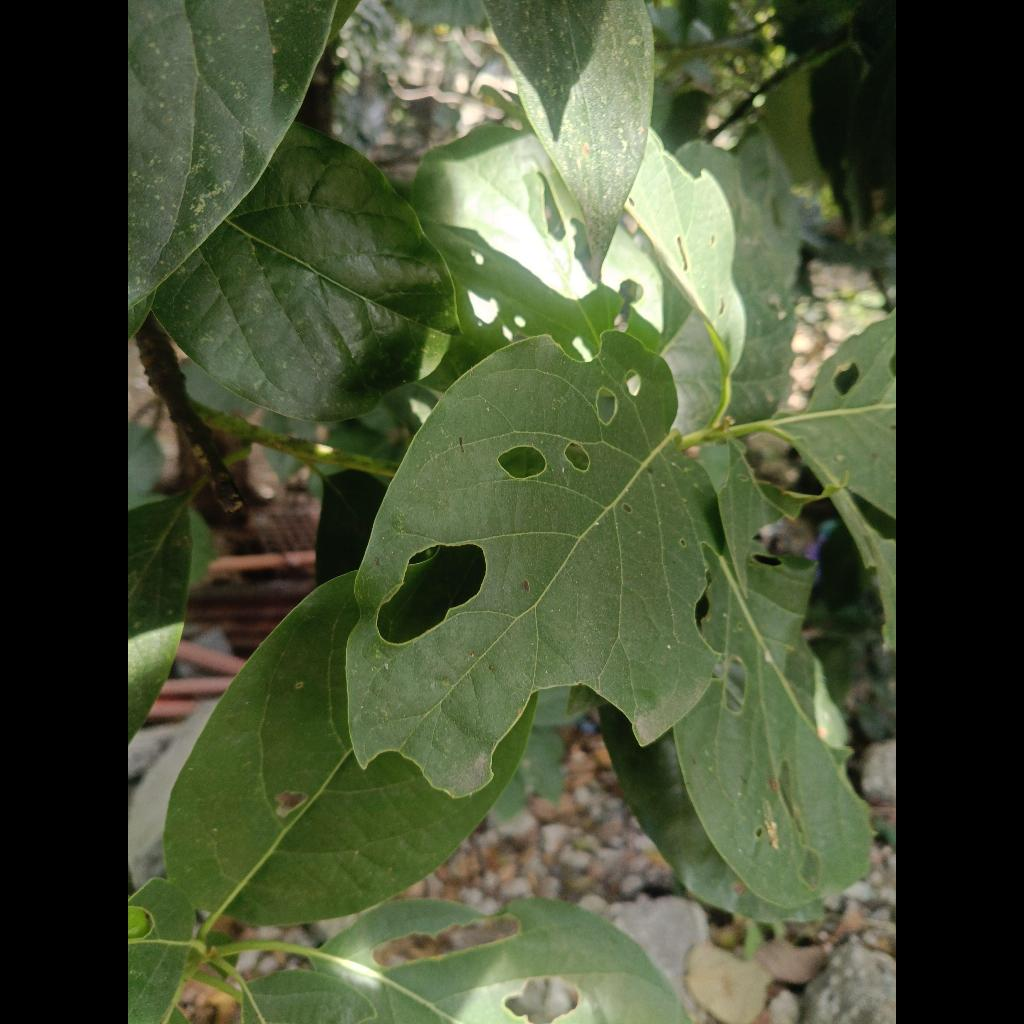plaga: (346, 332, 721, 796)
